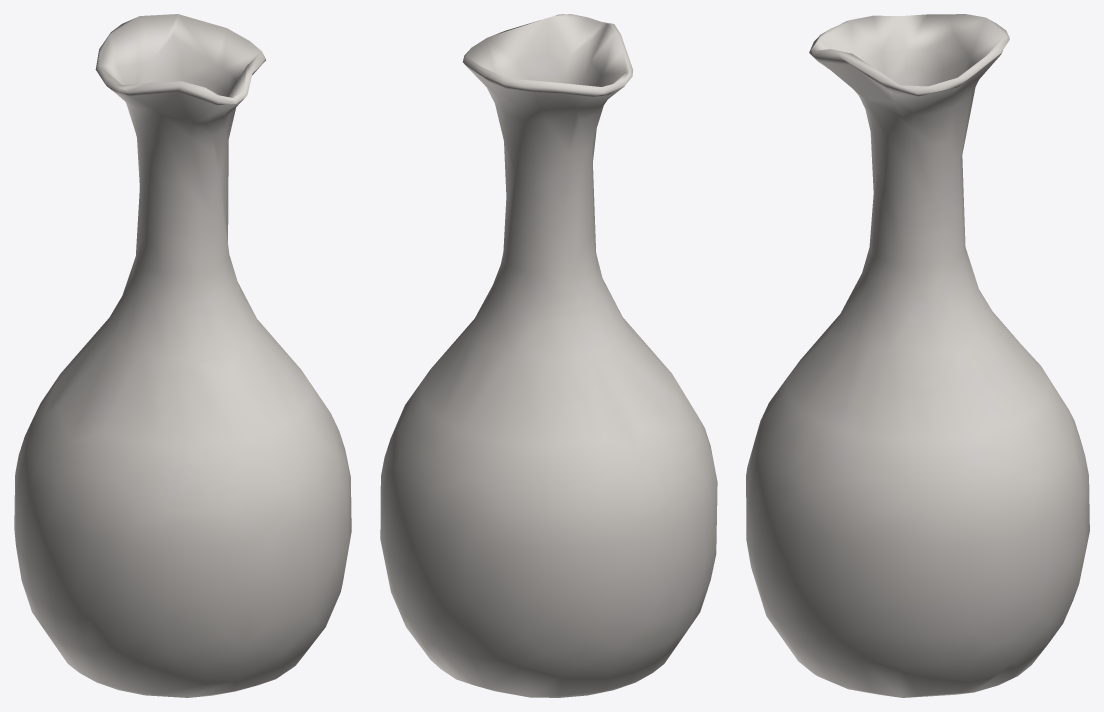
Rendered from vase.glb.
3 views of the same model, side by side, from view 1: azimuth 30°, elevation 25°; view 2: azimuth 150°, elevation 25°; view 3: azimuth 270°, elevation 25° (orthographic).
Parts seen in each view (by area): view 1: ceramic_vase_01; view 2: ceramic_vase_01; view 3: ceramic_vase_01.
Boxes of the visible parts, left/top/right/bottom form: ceramic_vase_01: left=14, top=14, right=351, bottom=697; ceramic_vase_01: left=380, top=14, right=717, bottom=697; ceramic_vase_01: left=746, top=14, right=1089, bottom=697.
Size of the model in its own units: 0.2018 by 0.3999 by 0.202.
1 material, 1 textured.
